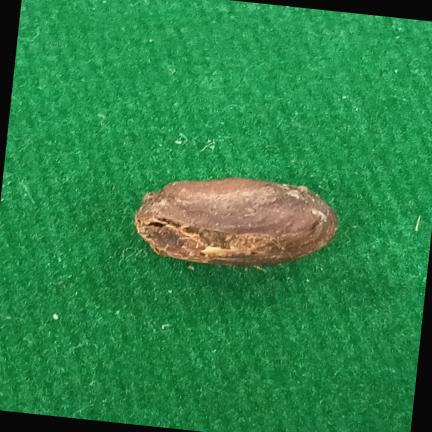full-black: (135, 178, 338, 266)
